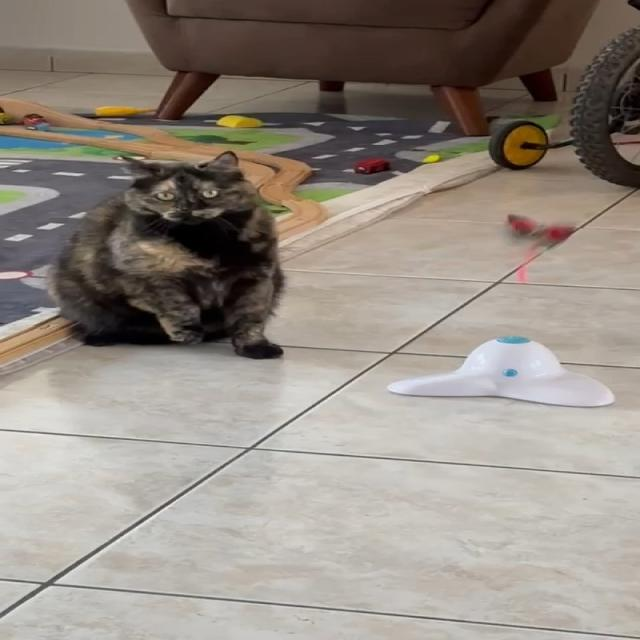authorized: (44, 150, 287, 360)
